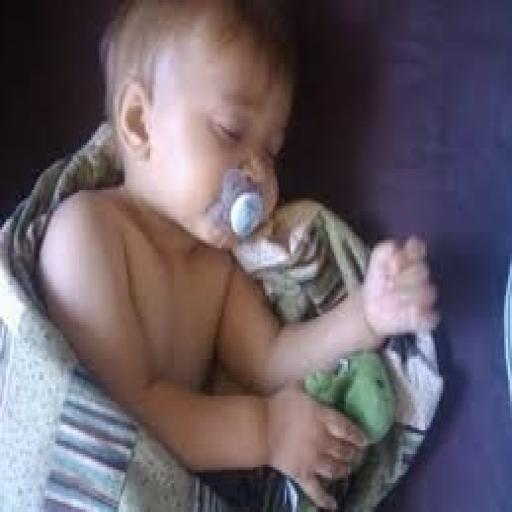sleeping: (0, 0, 445, 509)
